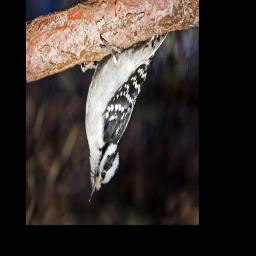Woodpecker: (78, 31, 168, 206)
